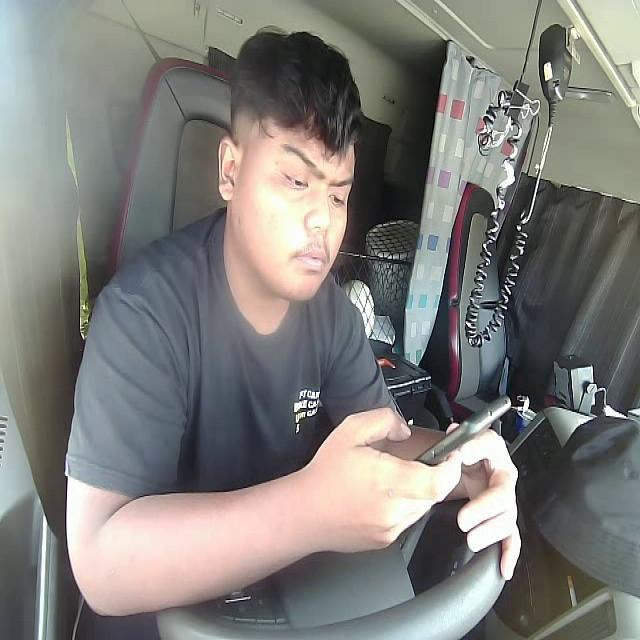phone: (416, 396, 513, 465)
